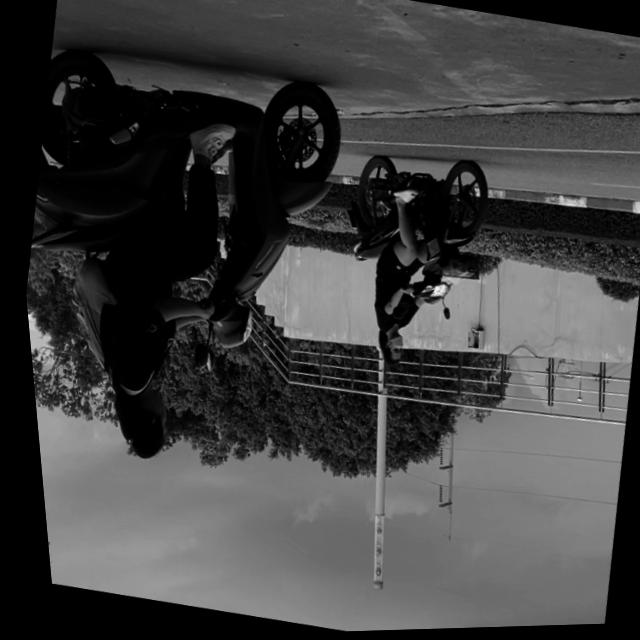seatbelt: (106, 381, 169, 464), (370, 332, 400, 369)
